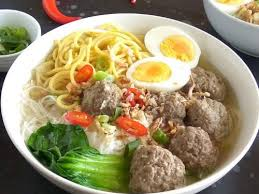bakso: (52, 42, 232, 183)
